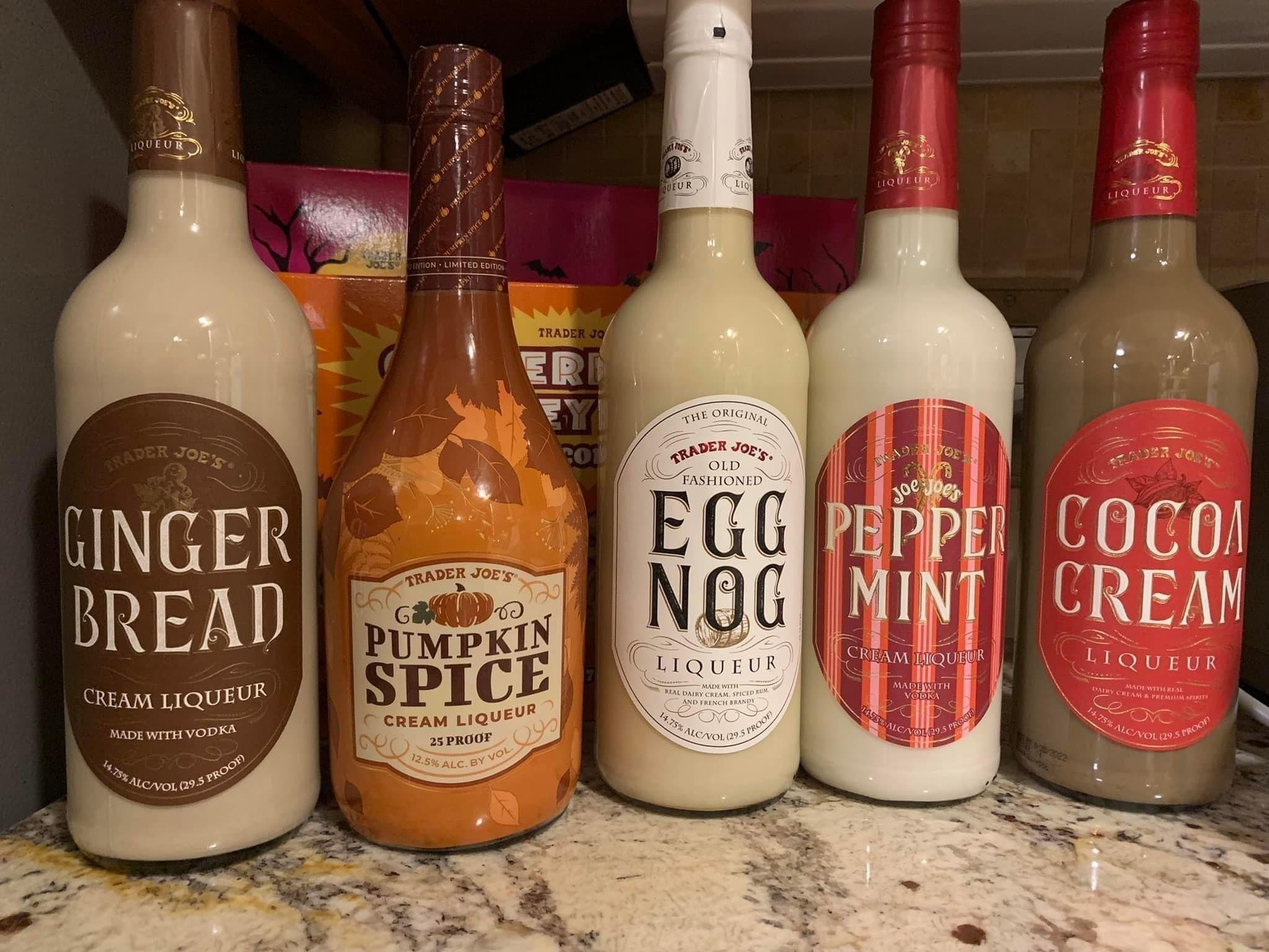bottle-glass: (47, 1, 328, 880), (331, 42, 592, 865), (1004, 1, 1257, 818), (588, 1, 809, 831), (797, 1, 1022, 814)
